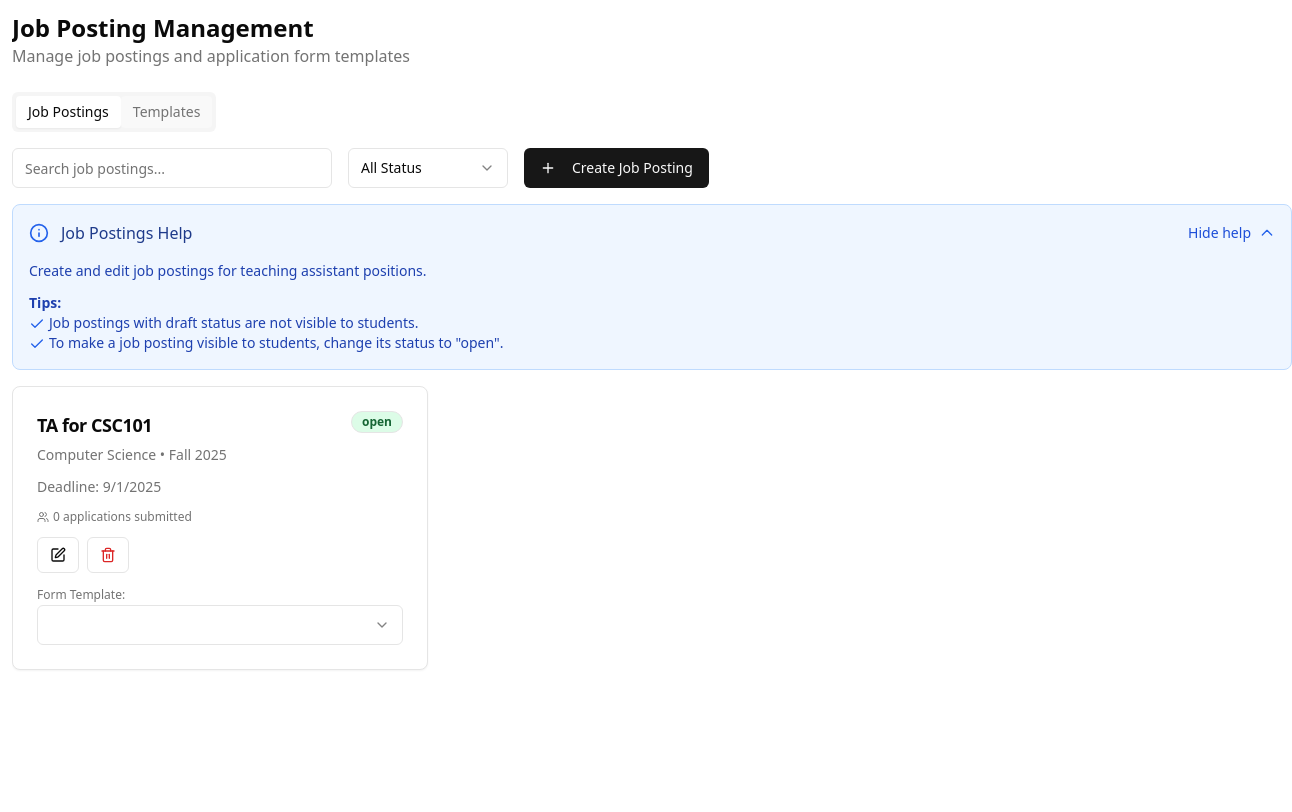
Test: JobManagementPage › filters job postings based on search term
This screenshot has width=1292, height=812.
Expected: the text "TA for CSC101" is shown, [37, 411, 152, 439]
Type "xyz-not-found" into the field with placeholder "Search job postings...".
click(172, 168); type("xyz-not-found")  # box [12, 148, 332, 188]
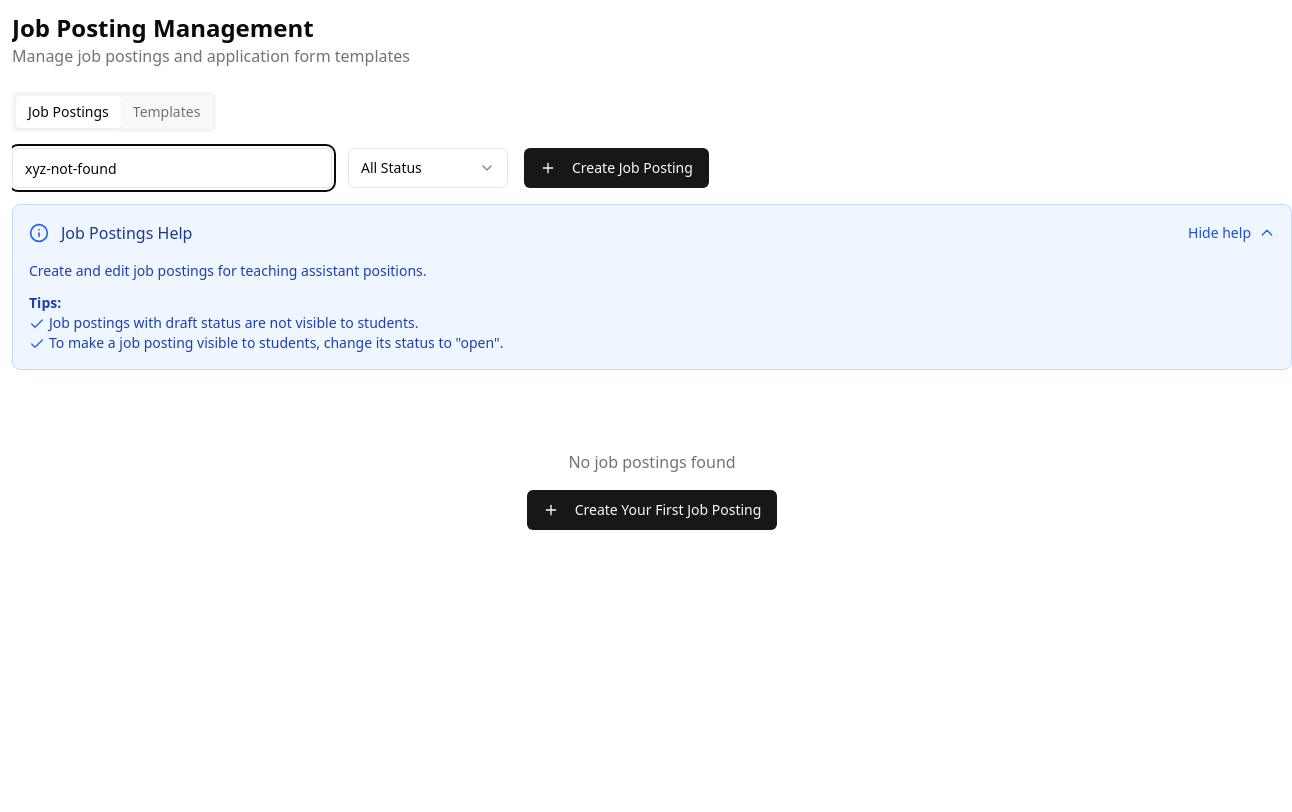
Expected: the text "TA for CSC101" is gone
Expected: the text "No job postings found" is shown, [568, 451, 736, 473]
